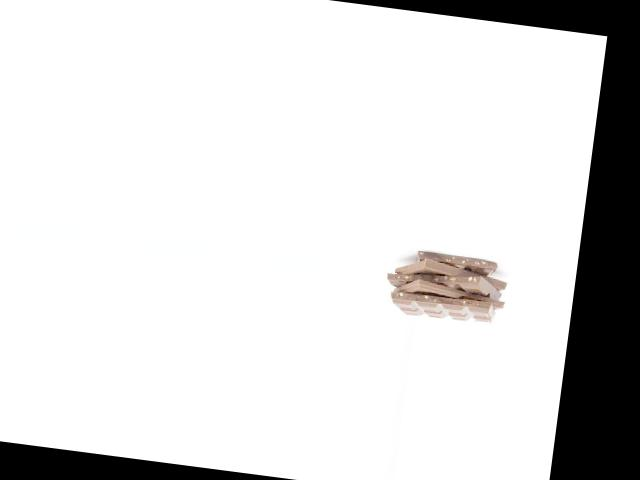chocolate: (393, 241, 508, 299)
